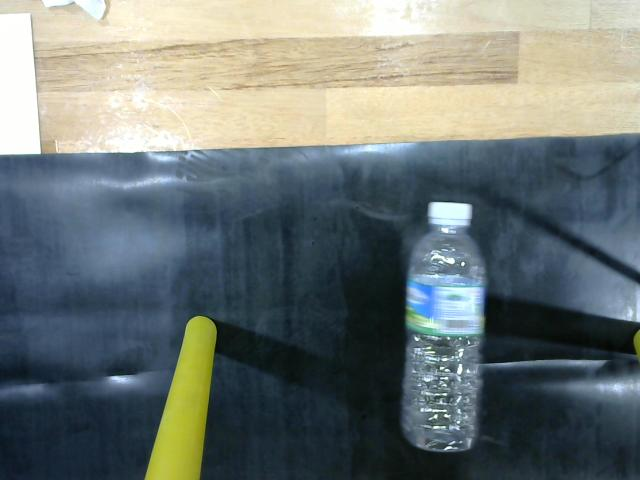bottle: (389, 196, 501, 461)
